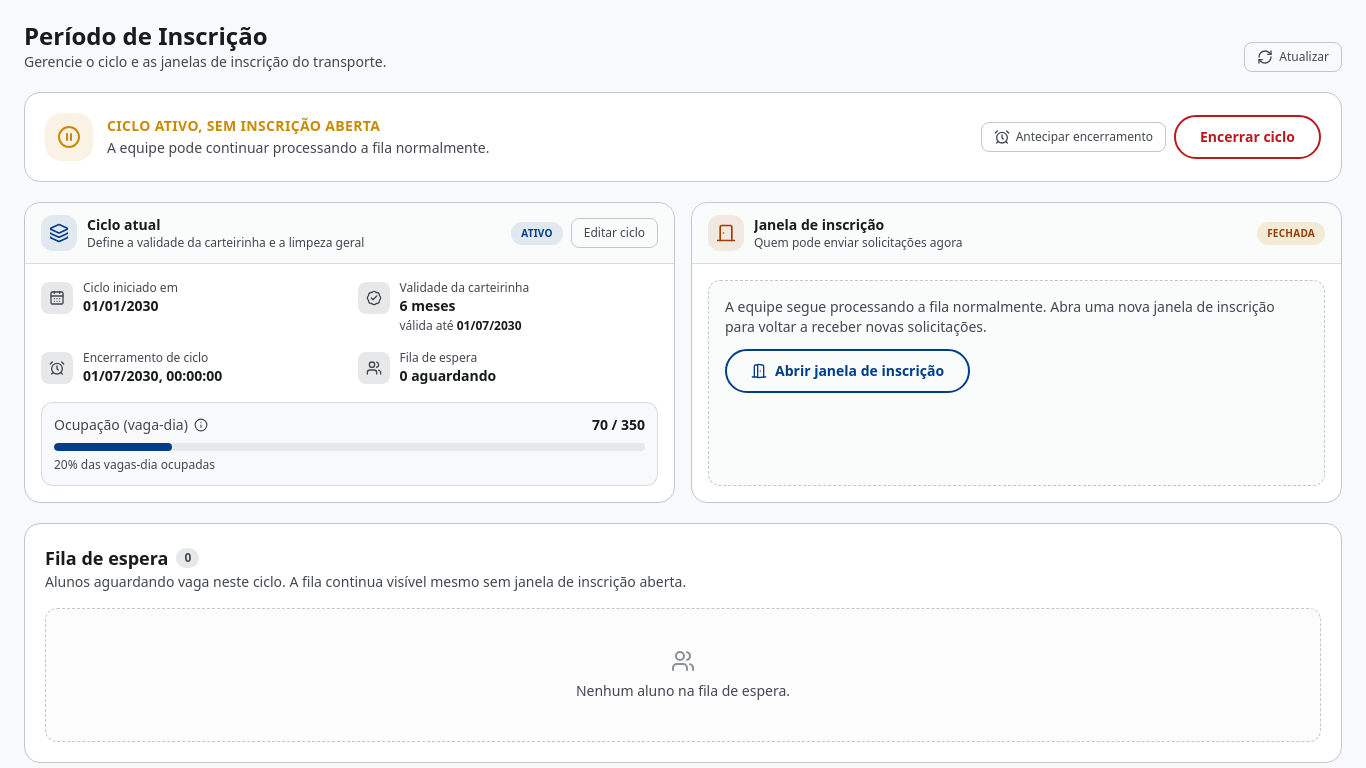
Test case: EnrollmentPeriodPage — encerrar carteirinhas ao abrir janela › o botão de confirmar fica travado até marcar a ciência
The width and height of the screenshot is (1366, 768).
Click the button "Abrir janela de inscrição": point(848, 371) [725,349,970,393]
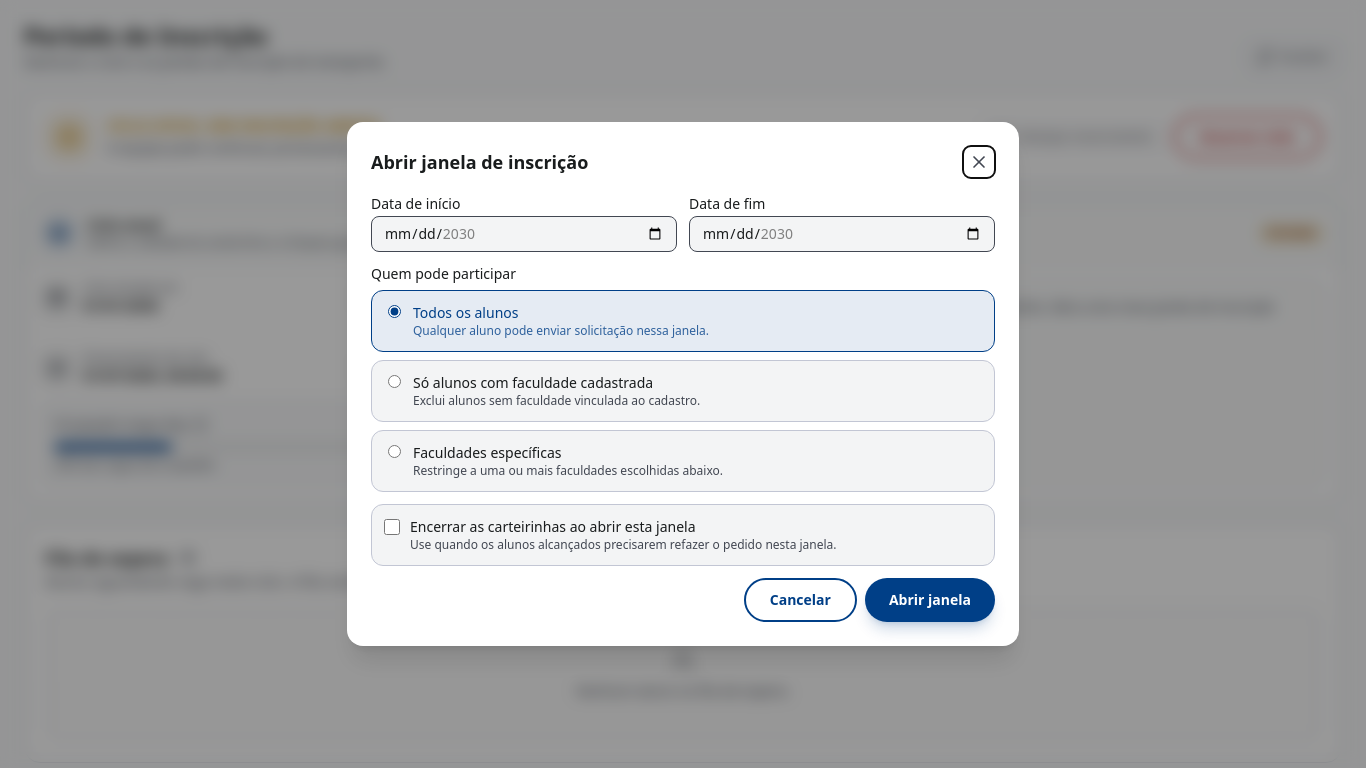
Check: the date field labelled "Data de início" is shown
In the date field labelled "Data de início": point(524, 234) [371,216,677,252], type "2030-04-01"
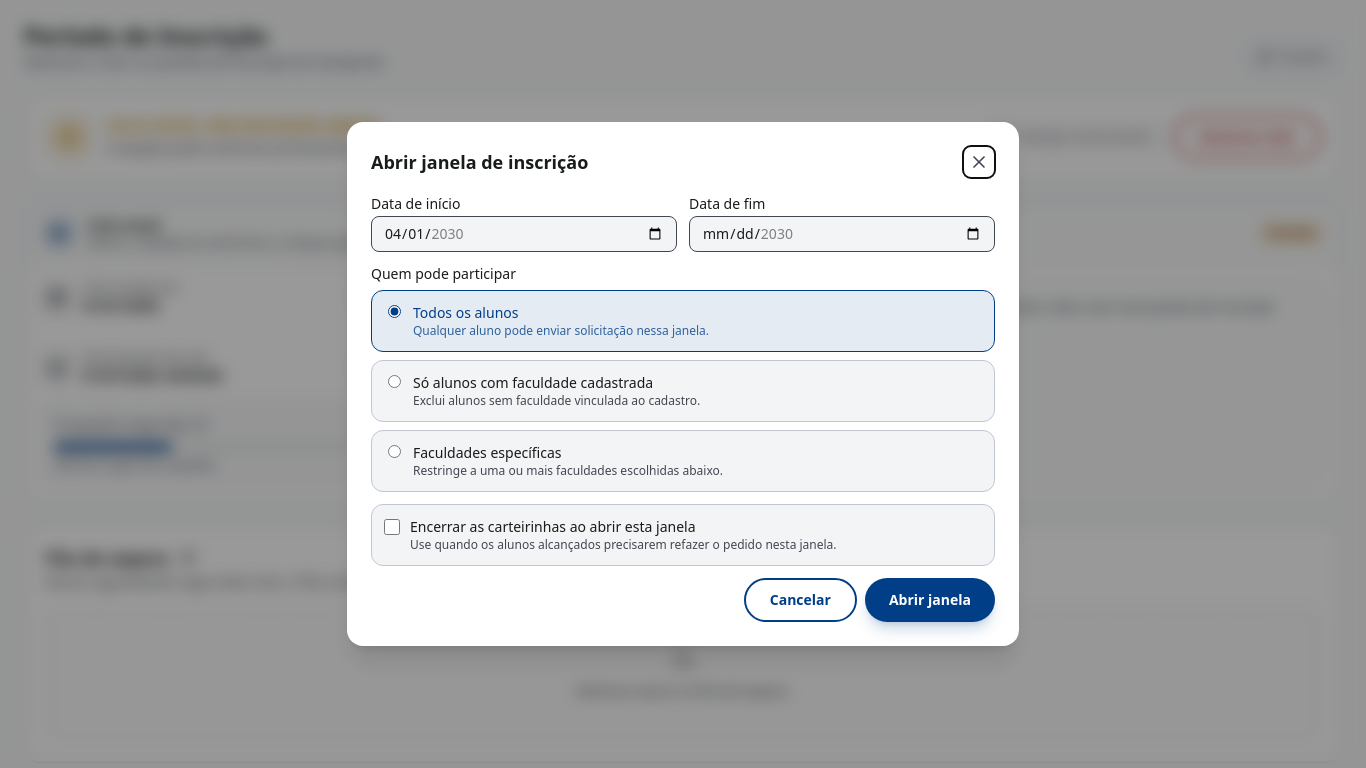
In the date field labelled "Data de fim": point(842, 234) [689,216,995,252], type "2030-04-03"
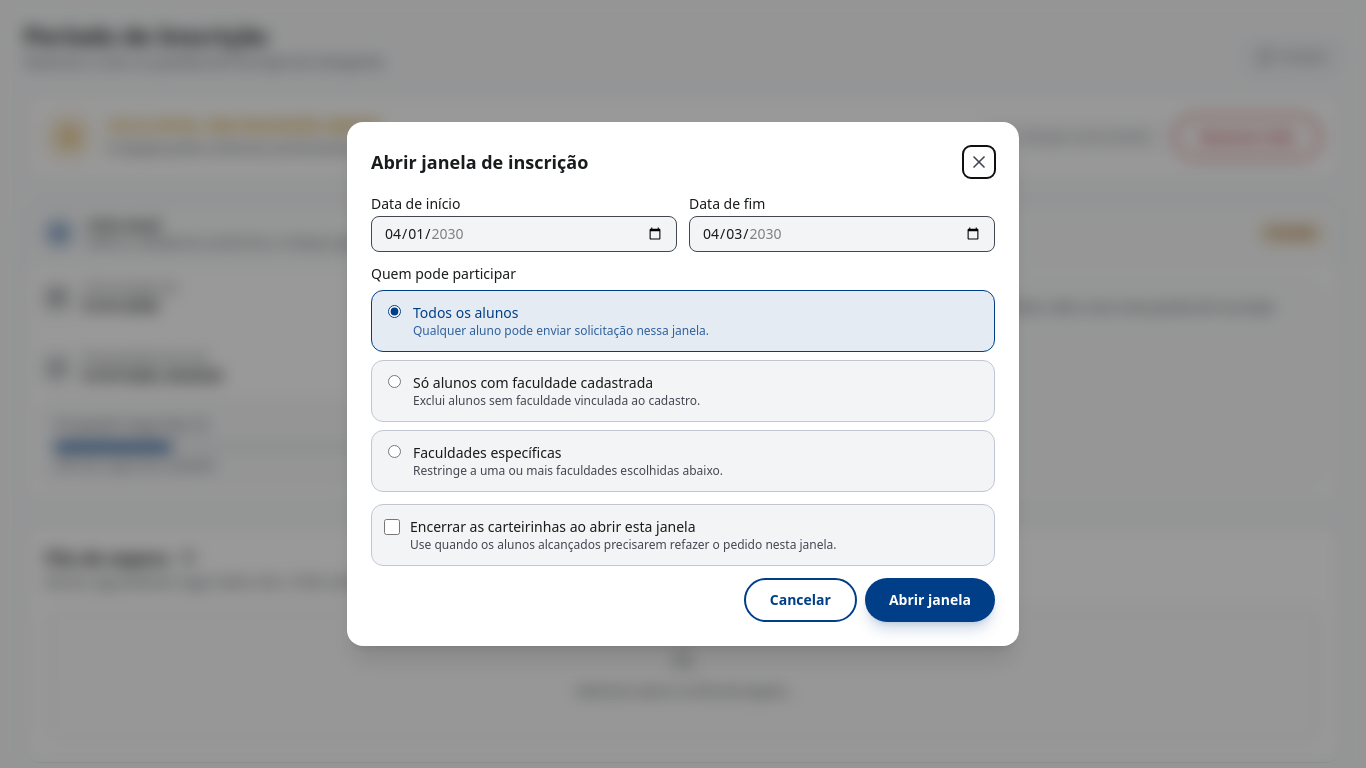
Click the checkbox labelled "Encerrar as carteirinhas": point(392, 527) [384,519,400,535]
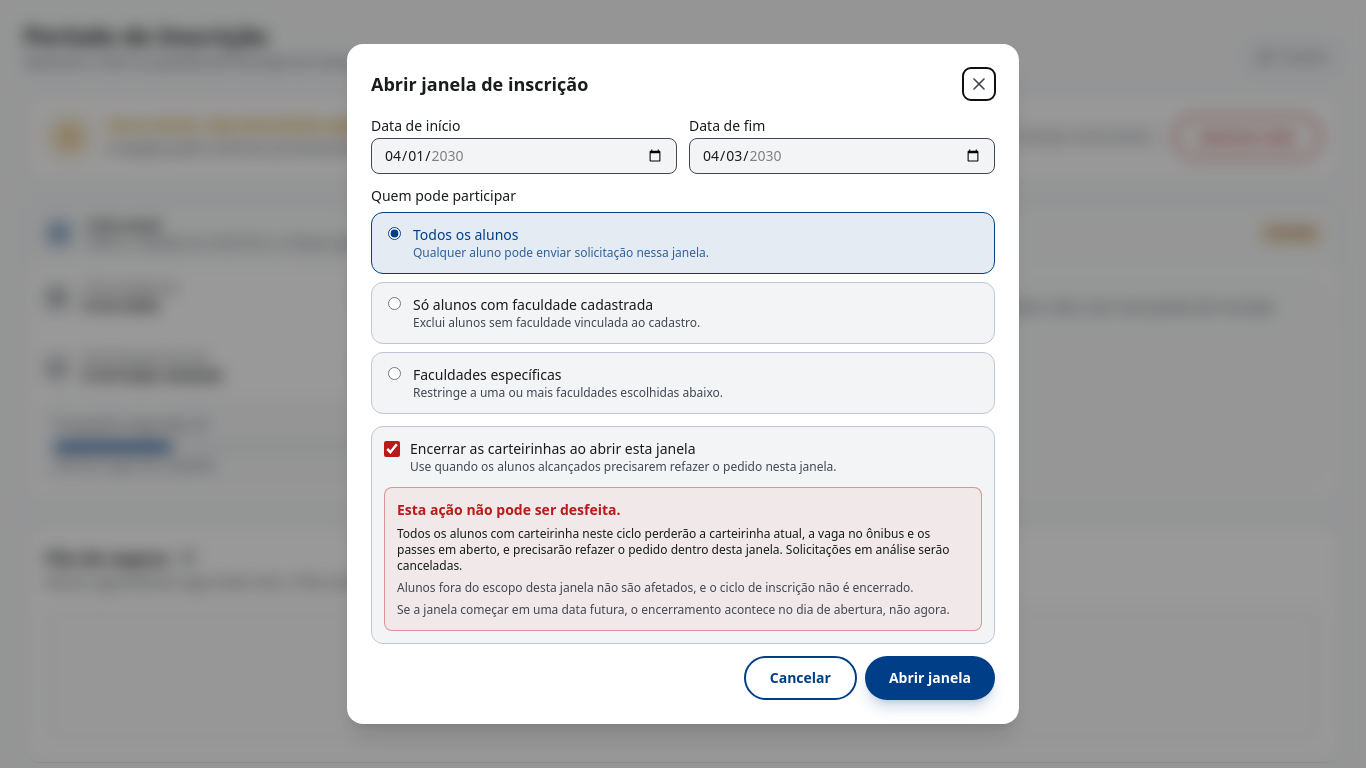
Click the button "Abrir janela": point(930, 678) [865,656,995,700]
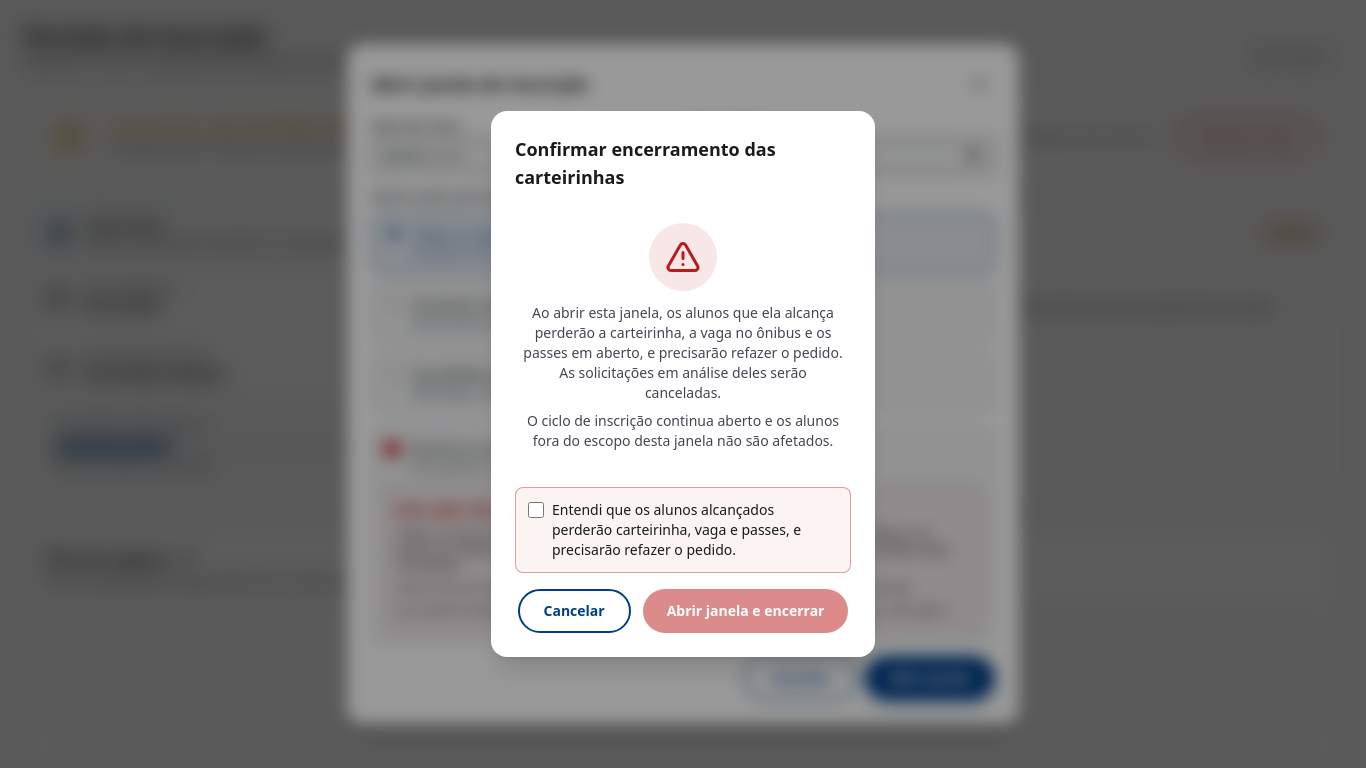
Check: the heading "Confirmar encerramento das carteirinhas" is shown, box [515,137,776,189]
Check: the button "Abrir janela e encerrar" is disabled, box [643,589,848,633]
Click the checkbox labelled "Entendi que": point(536, 510) [528,502,544,518]
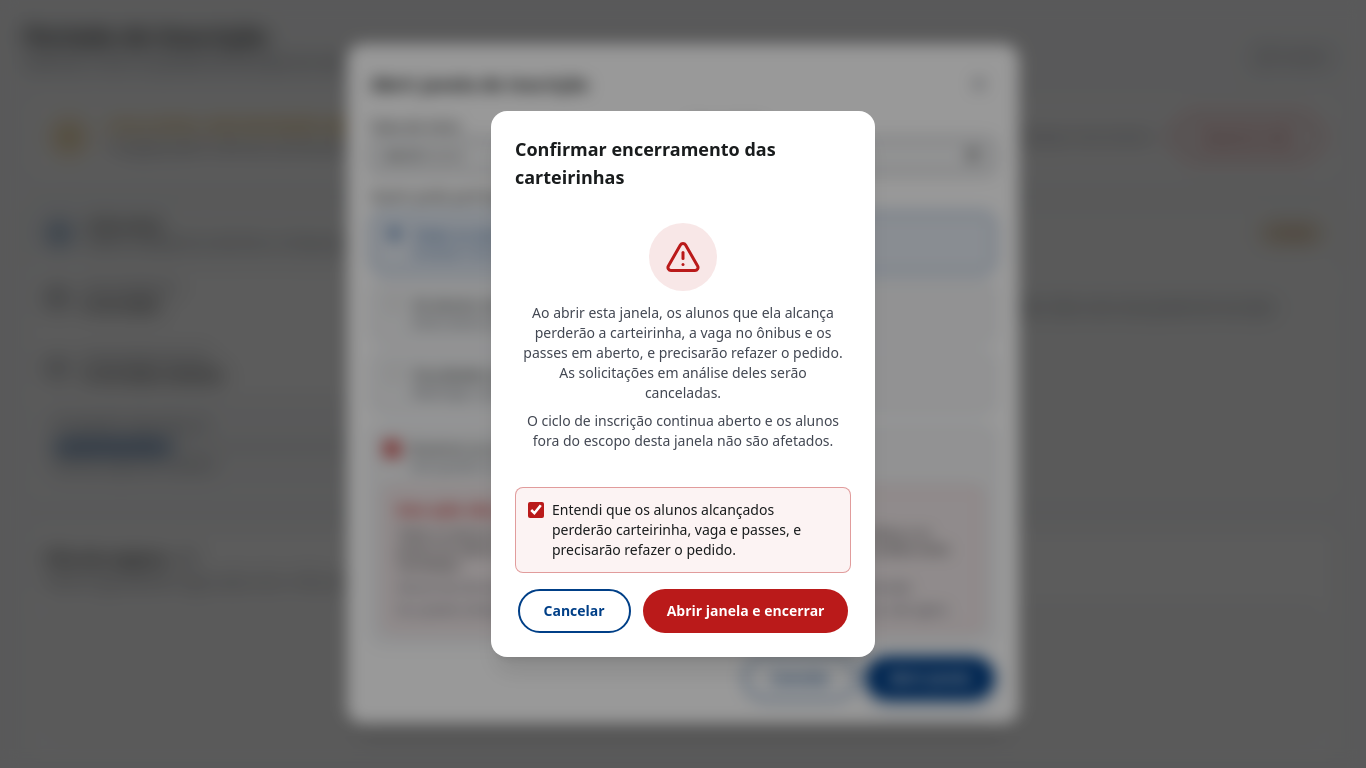
Check: the button "Abrir janela e encerrar" is enabled, box [643,589,848,633]
